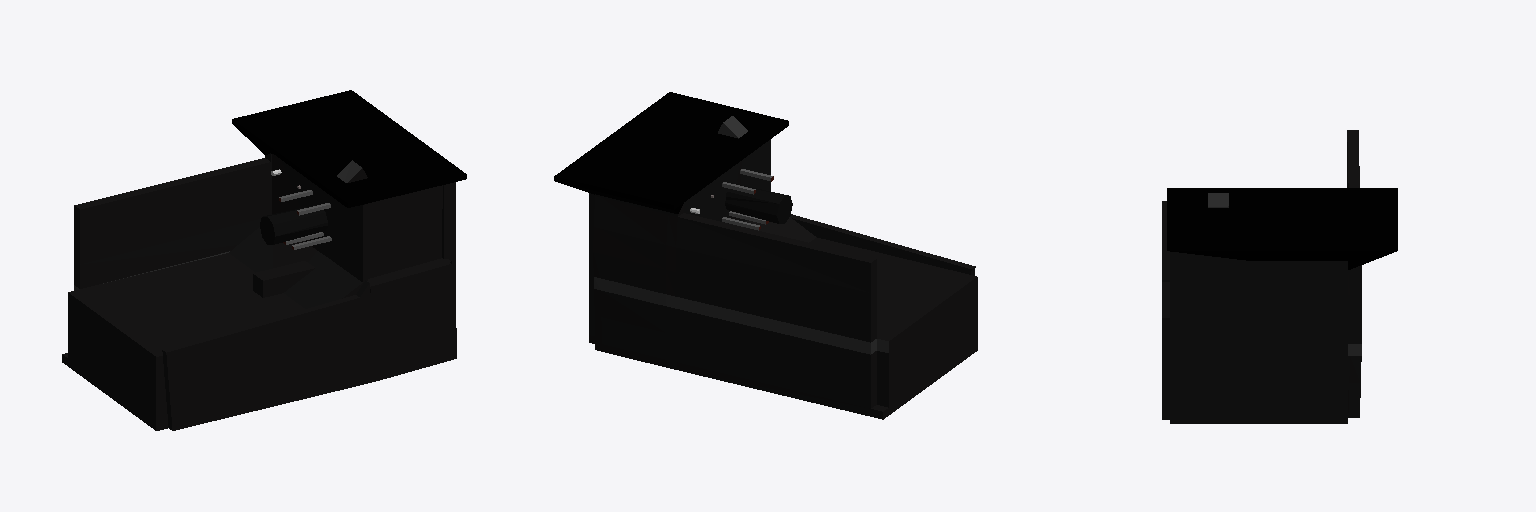
Rendered from Narushat-Inside.obj.
3 views of the same model, side by side, from view 1: azimuth 30°, elevation 25°; view 2: azimuth 150°, elevation 25°; view 3: azimuth 270°, elevation 25° (orthographic).
Visible parts, largest first — view 1: Cube_Cube.003, Cube.008_Cube.007, Cylinder.018, Cube.006_Cube.002; view 2: Cube_Cube.003, Cube.008_Cube.007, Cylinder.018, Cube.006_Cube.002; view 3: Cube_Cube.003, Cube.008_Cube.007.
Boxes of the visible parts, <box> form: Cube_Cube.003: <box>62,153,456,430</box>; Cube.008_Cube.007: <box>232,90,466,207</box>; Cylinder.018: <box>260,205,327,244</box>; Cube.006_Cube.002: <box>279,190,331,249</box>; Cube_Cube.003: <box>589,116,977,419</box>; Cube.008_Cube.007: <box>554,92,788,213</box>; Cylinder.018: <box>725,184,792,223</box>; Cube.006_Cube.002: <box>722,169,773,230</box>; Cube_Cube.003: <box>1162,130,1361,423</box>; Cube.008_Cube.007: <box>1167,188,1397,269</box>.
Bounding box in the file's own units: 8.67 × 5.22 × 5.73.